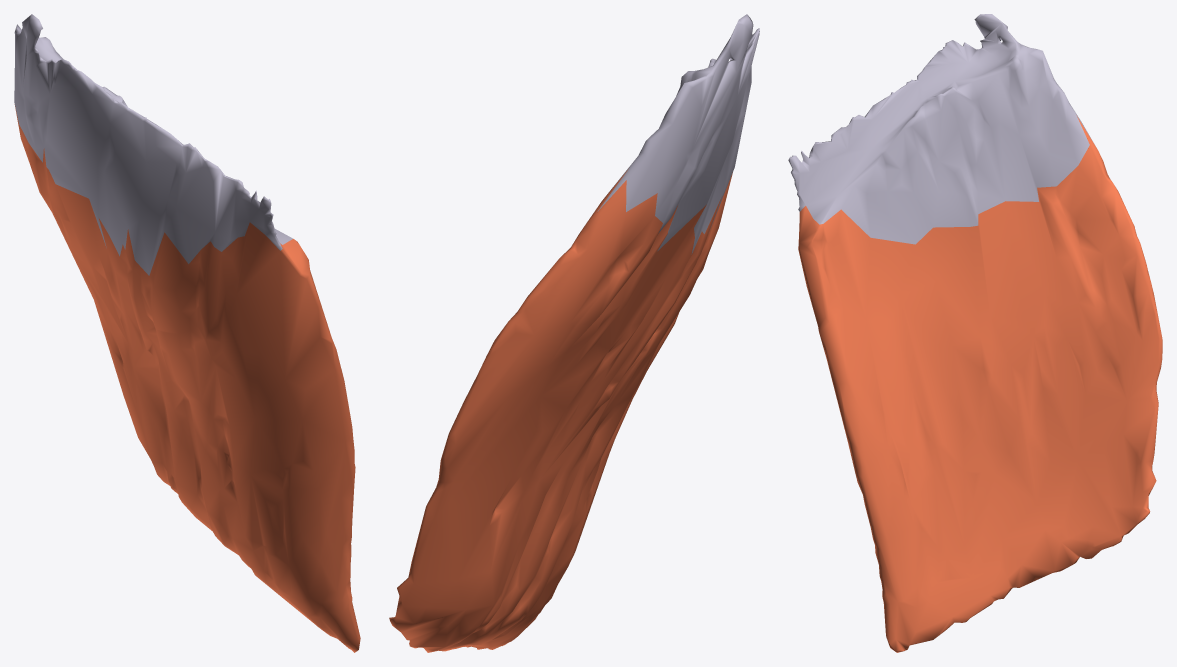
File: Masseter_superficial_part_right.glb
The picture shows the model from 3 angles, left to right: view 1: azimuth 30°, elevation 25°; view 2: azimuth 150°, elevation 25°; view 3: azimuth 270°, elevation 25°; orthographic projection. The views are drawn at different scales.
Visible parts, largest first — view 1: Superficial_part_of_masseter.r_Generated_Mesh_From_X3D.180; view 2: Superficial_part_of_masseter.r_Generated_Mesh_From_X3D.180; view 3: Superficial_part_of_masseter.r_Generated_Mesh_From_X3D.180.
Boxes of the visible parts, <box> form: Superficial_part_of_masseter.r_Generated_Mesh_From_X3D.180: <box>14,14,360,652</box>; Superficial_part_of_masseter.r_Generated_Mesh_From_X3D.180: <box>389,14,759,652</box>; Superficial_part_of_masseter.r_Generated_Mesh_From_X3D.180: <box>788,14,1162,652</box>.
Size of the model in its own units: 0.0266 by 0.0622 by 0.0395.
